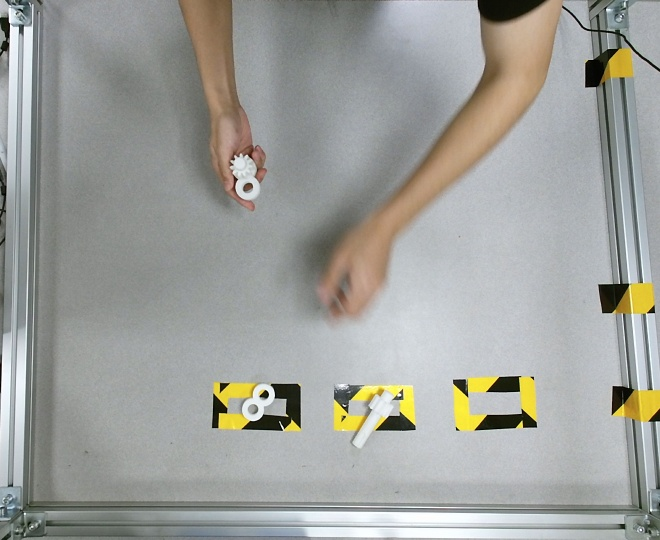stage_2: (229, 153, 260, 200)
